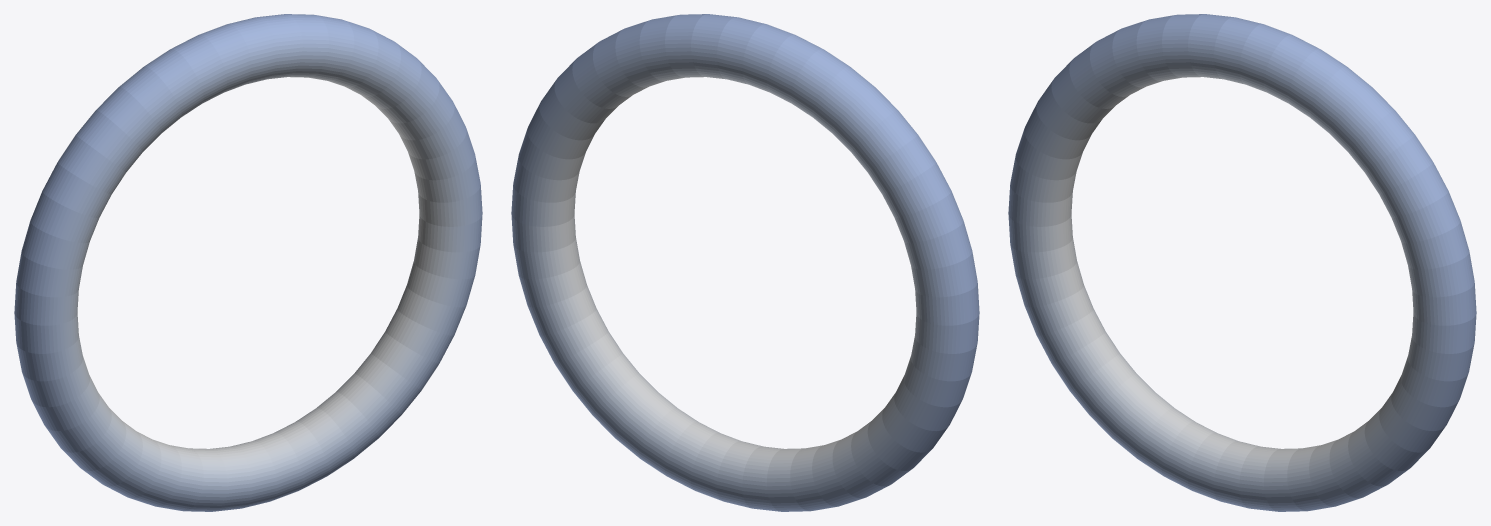
3 views of the same model, side by side, from view 1: azimuth 30°, elevation 25°; view 2: azimuth 150°, elevation 25°; view 3: azimuth 330°, elevation 25° (orthographic).
Visible parts, largest first — view 1: world; view 2: world; view 3: world.
Part boxes in pixels (left/top/right/bottom): world: left=14, top=14, right=482, bottom=511; world: left=511, top=14, right=979, bottom=511; world: left=1008, top=14, right=1476, bottom=511.
Size of the model in its own units: 30.27 by 30.21 by 3.59.
